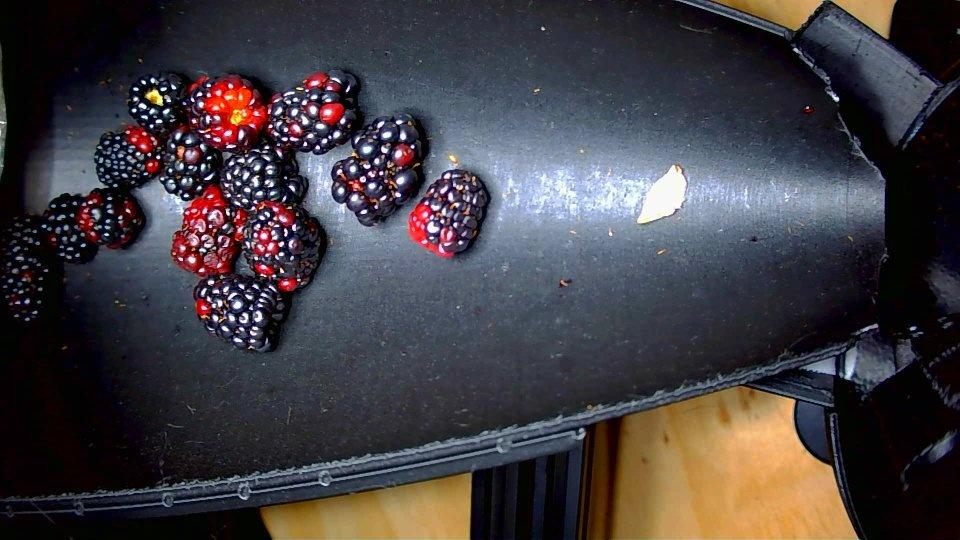berry: (331, 114, 421, 225), (267, 70, 357, 154), (242, 202, 322, 291), (195, 274, 286, 351), (171, 185, 246, 277), (408, 170, 488, 256), (187, 74, 267, 152), (220, 142, 308, 212), (0, 214, 54, 322), (159, 124, 221, 200), (74, 188, 144, 248), (95, 126, 160, 189), (40, 193, 97, 263), (128, 75, 184, 138)
